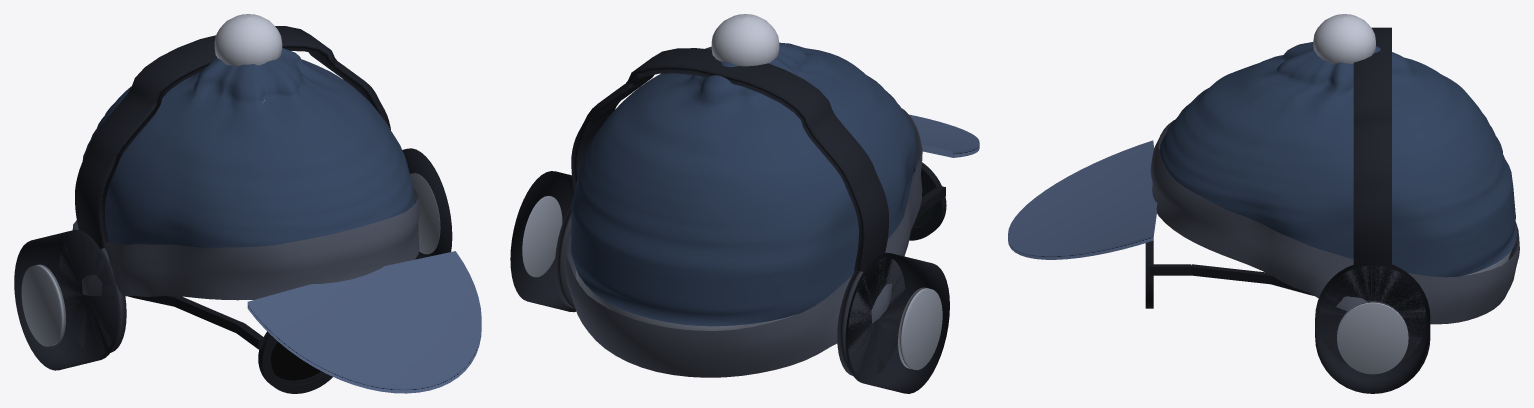
The model's file is zubehoer.glb.
3 renders of one model, left to right at view 1: azimuth 30°, elevation 25°; view 2: azimuth 150°, elevation 25°; view 3: azimuth 270°, elevation 25°, orthographic. The views are drawn at different scales.
Visible parts, largest first — view 1: z_cap, z_kopfhoerer, z_muetze, z_sonnenbrille; view 2: z_cap, z_kopfhoerer, z_muetze, z_sonnenbrille; view 3: z_cap, z_kopfhoerer, z_muetze, z_sonnenbrille.
Boxes of the visible parts, x1,y1,x2,y2 form: z_cap: (82,48,481,393); z_kopfhoerer: (14,26,452,370); z_muetze: (72,14,420,300); z_sonnenbrille: (128,295,332,393); z_cap: (571,42,979,326); z_kopfhoerer: (510,48,949,393); z_muetze: (564,14,922,377); z_sonnenbrille: (909,162,946,240); z_cap: (1008,42,1516,277); z_kopfhoerer: (1315,27,1430,393); z_muetze: (1150,14,1519,324); z_sonnenbrille: (1145,239,1351,308).
Size of the model in its own units: 0.2566 by 0.2002 by 0.3185.
